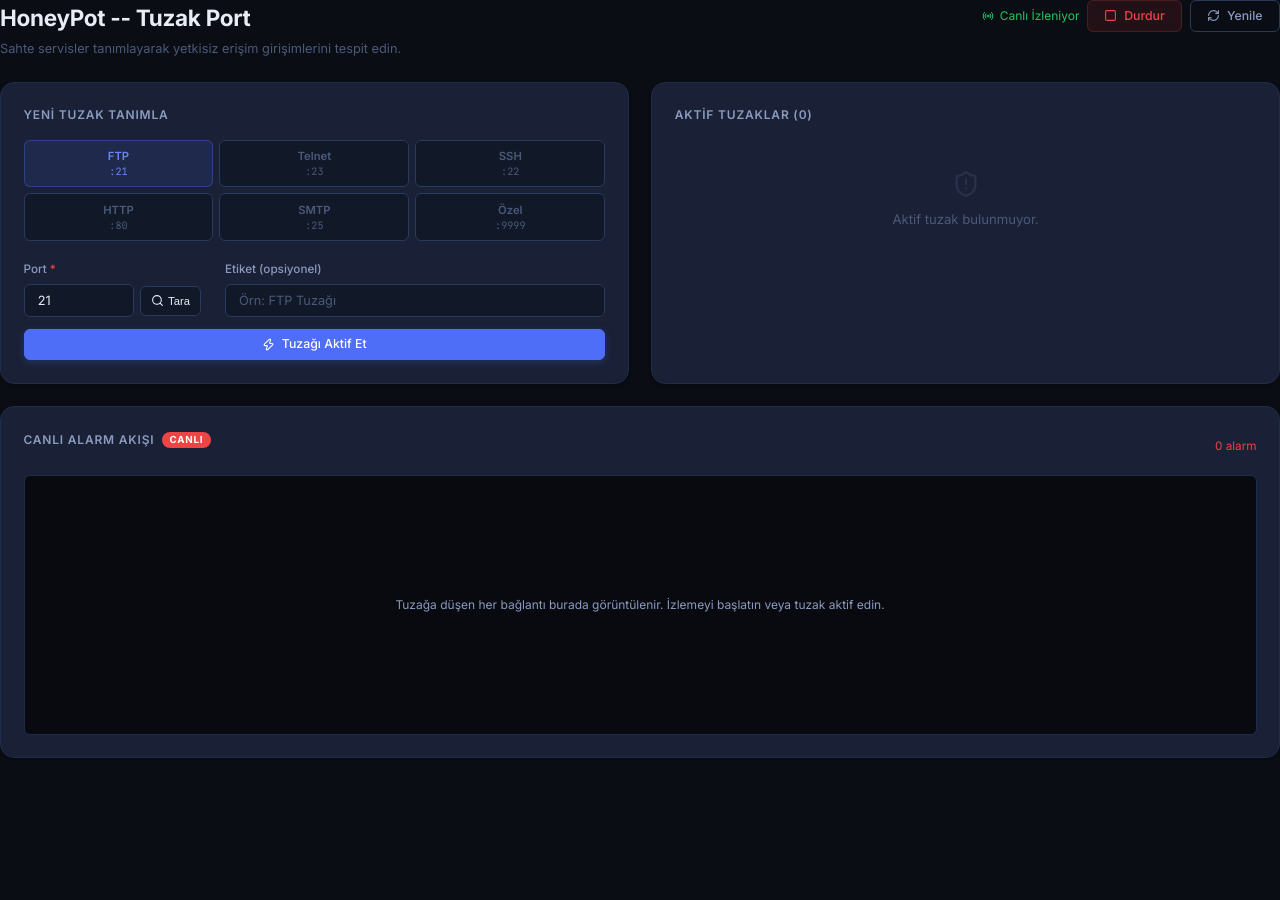
it: HoneypotView Bileşeni › boşta 1024 altı port (Telnet 23) tuzak başlatabiliyor
The image size is (1280, 900).
Click the button "Telnet :23": {"x": 314, "y": 164} x1=219 y1=140 x2=409 y2=187
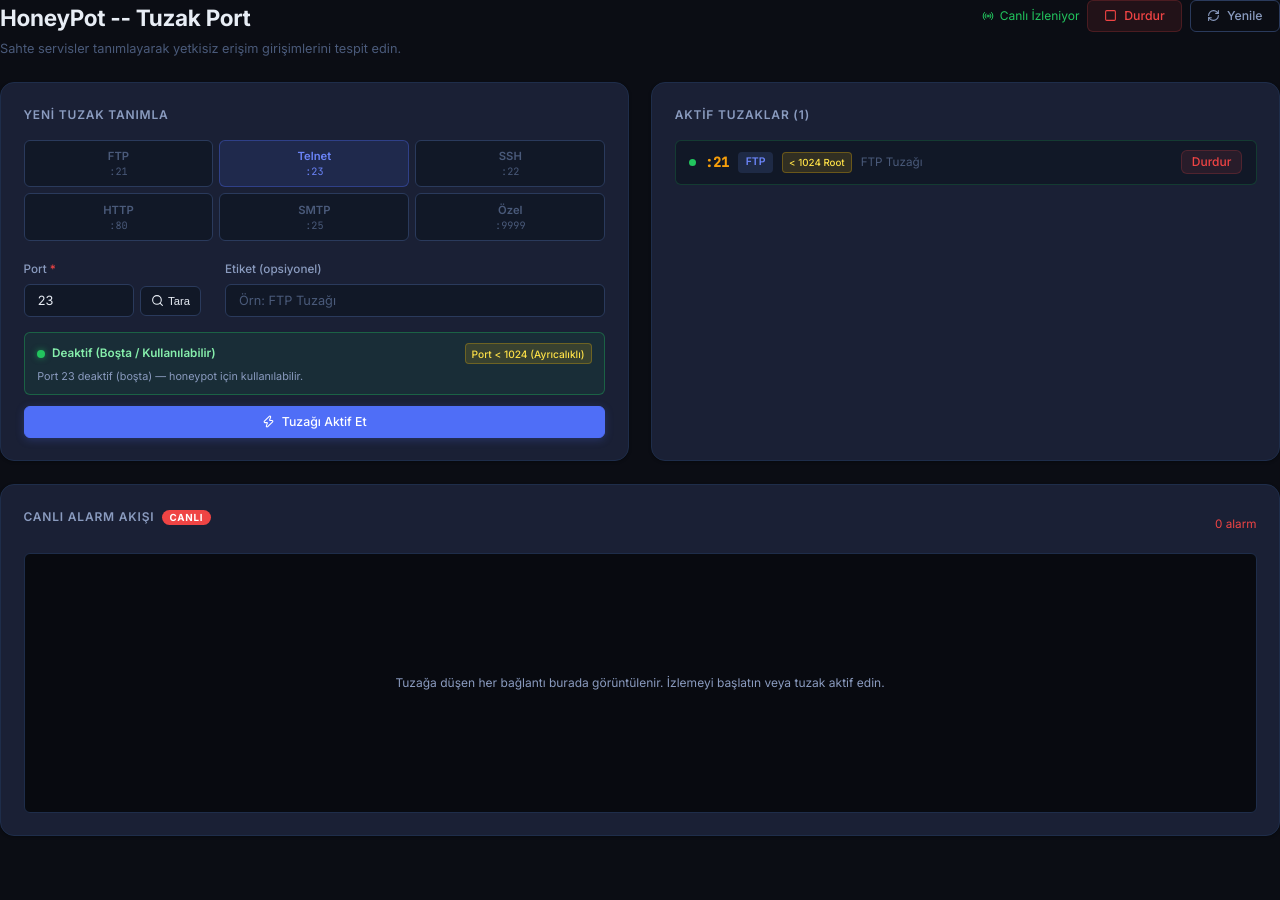
Expected: the text "Deaktif (Boşta / Kullanılabilir)" is shown, x1=52 y1=344 x2=216 y2=363
Expected: the text "Port < 1024 (Ayrıcalıklı)" is shown, x1=464 y1=343 x2=592 y2=364
Click the button "Tuzağı Aktif Et": {"x": 314, "y": 422} x1=24 y1=406 x2=605 y2=438
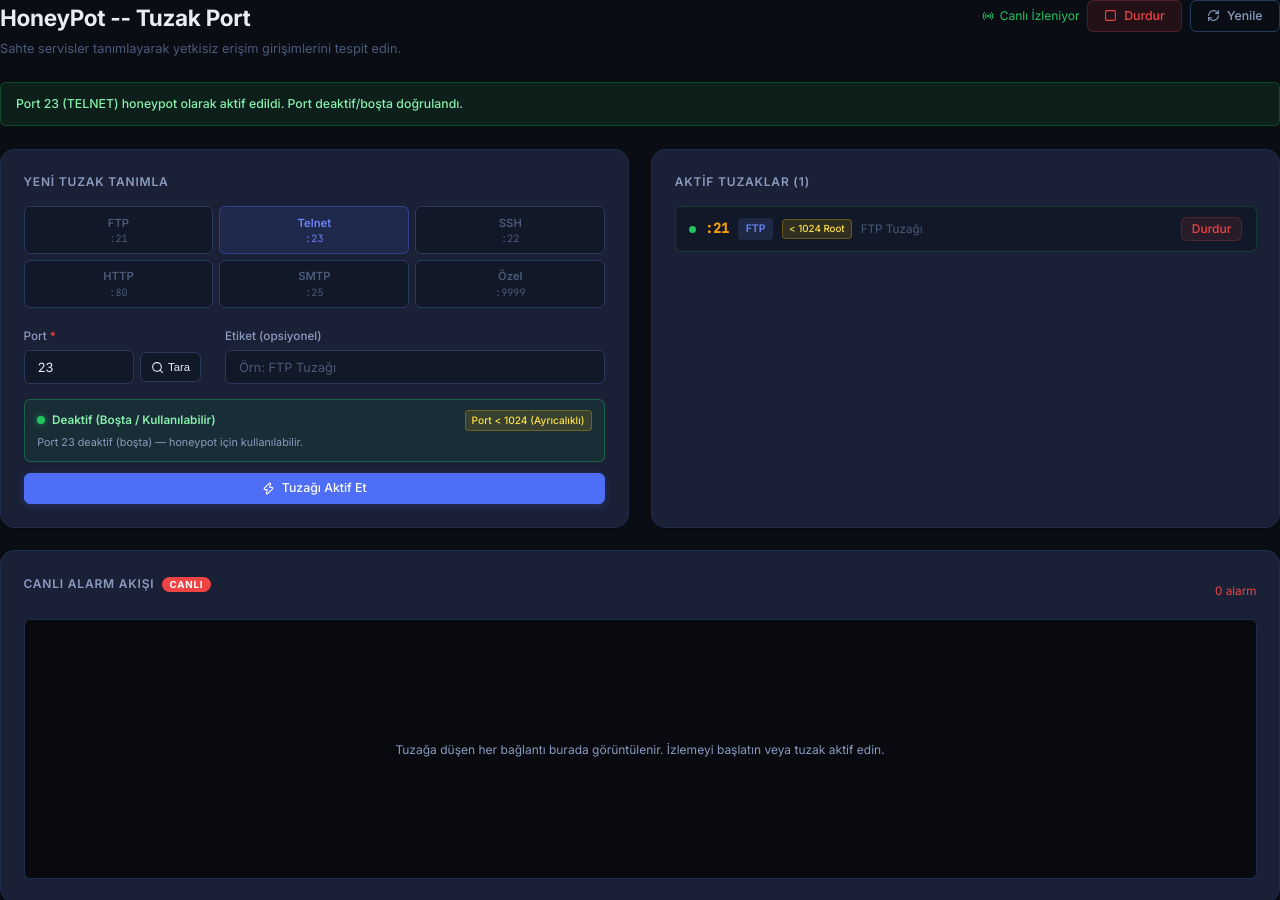
Expected: the text "Port 23 (TELNET) honeypot olarak aktif edildi" is shown, x1=16 y1=96 x2=463 y2=111
